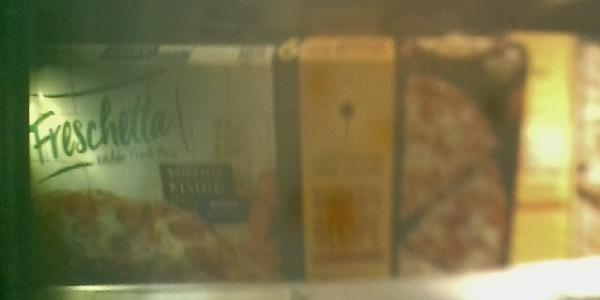pizza1: (24, 32, 528, 266)
